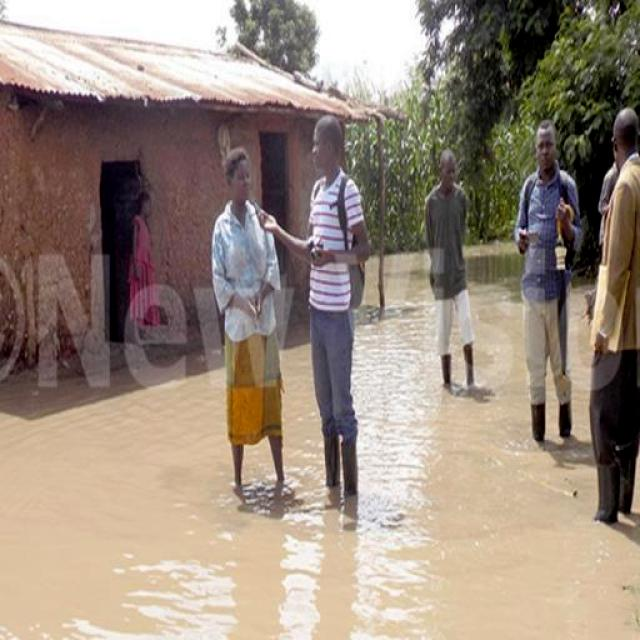civilian: (268, 112, 398, 522), (207, 132, 290, 510), (580, 92, 640, 530), (508, 107, 578, 467), (419, 138, 485, 405), (118, 178, 162, 360)
